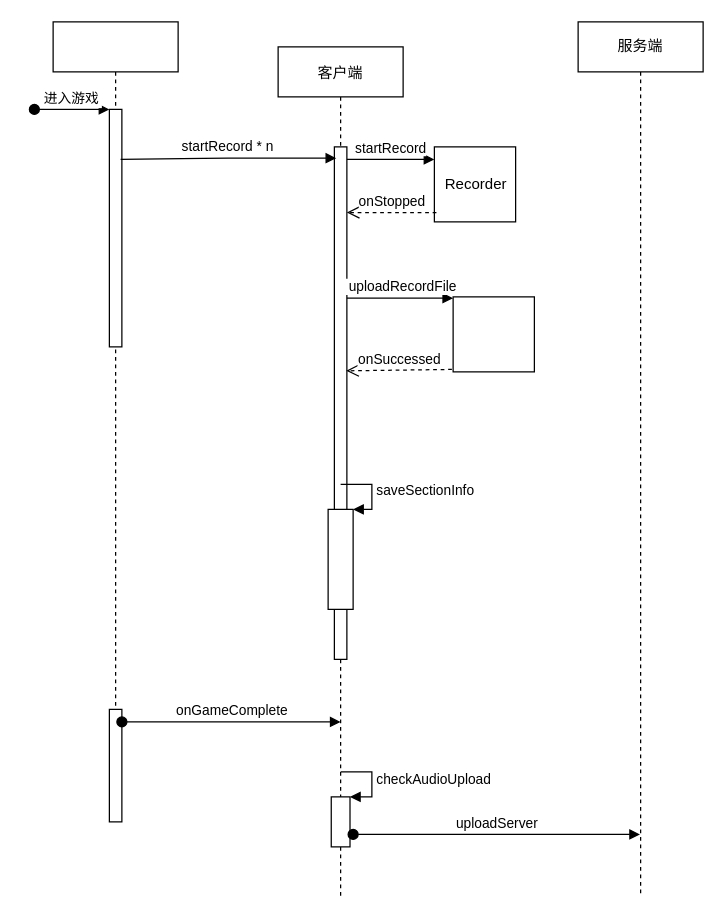
The diagram is 725 pixels wide and 919 high, and some of its shapes have lost their labels. The shapes that lost their labels are listed below. From the top down, each one's box as (x1, y1, x2, y2) in pixels, then its label:
(452, 296, 534, 372): QiniuUploadManager
(52, 21, 178, 709): cocos端
